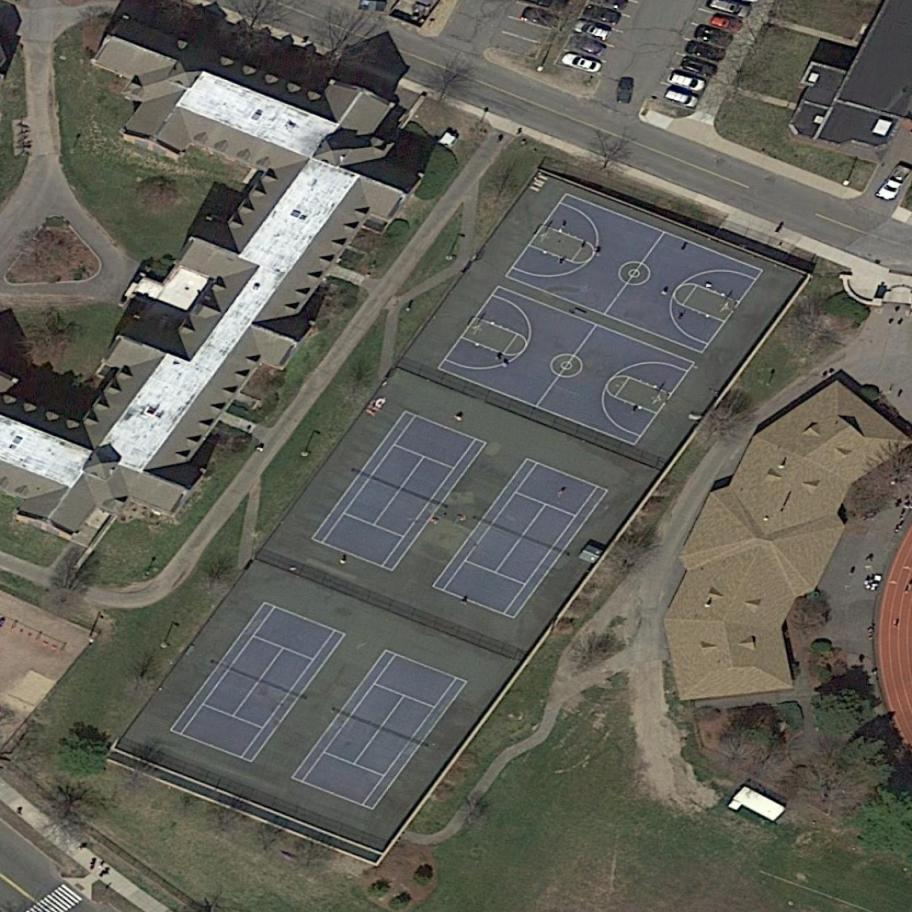small-vehicle: (871, 159, 912, 206), (515, 2, 568, 32), (555, 48, 606, 77), (662, 66, 709, 96), (565, 32, 613, 61), (578, 1, 626, 29), (683, 37, 729, 65), (675, 52, 720, 79), (571, 17, 615, 44), (692, 22, 734, 50), (661, 86, 703, 112), (708, 9, 744, 34), (614, 74, 636, 105)
